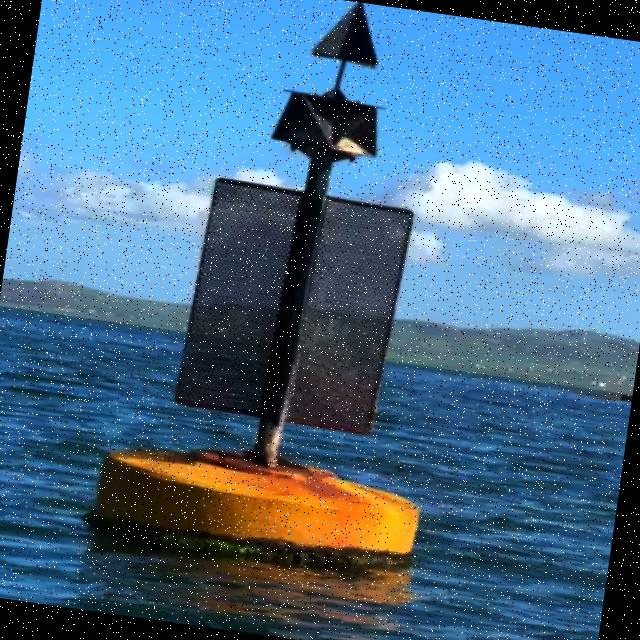marque: (69, 1, 483, 582)
